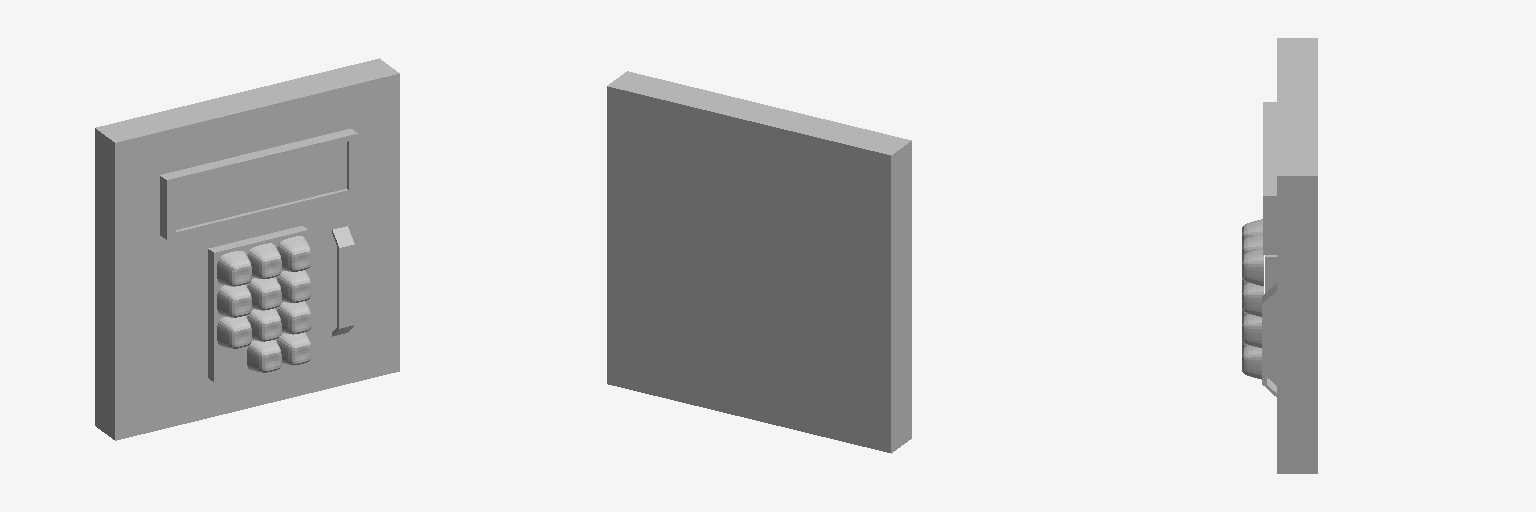
The model's file is SafeDoor.obj.
3 views of the same model, side by side, from view 1: azimuth 30°, elevation 25°; view 2: azimuth 150°, elevation 25°; view 3: azimuth 270°, elevation 25° (orthographic).
Visible parts, largest first — view 1: Cube_Cube.001, Cube.008_Cube.009, Cube.002_Cube.015, Cube.001_Cube.014, Cube.012_Cube.013, Plane.005; view 2: Cube_Cube.001; view 3: Cube_Cube.001, Cube.008_Cube.009, Cube.001_Cube.014, Cube.012_Cube.013, Plane.005.
Part boxes in pixels (left/top/right/bottom): Cube_Cube.001: left=95, top=58, right=399, bottom=440; Cube.008_Cube.009: left=217, top=236, right=310, bottom=372; Cube.002_Cube.015: left=176, top=142, right=346, bottom=229; Cube.001_Cube.014: left=160, top=129, right=357, bottom=239; Cube.012_Cube.013: left=208, top=226, right=307, bottom=381; Plane.005: left=332, top=226, right=354, bottom=336; Cube_Cube.001: left=607, top=71, right=911, bottom=453; Cube_Cube.001: left=1277, top=38, right=1317, bottom=473; Cube.008_Cube.009: left=1242, top=219, right=1263, bottom=379; Cube.001_Cube.014: left=1263, top=102, right=1276, bottom=254; Cube.012_Cube.013: left=1265, top=255, right=1276, bottom=385; Plane.005: left=1262, top=283, right=1276, bottom=396.
Size of the model in its own units: 1.6 by 1.6 by 0.3685.